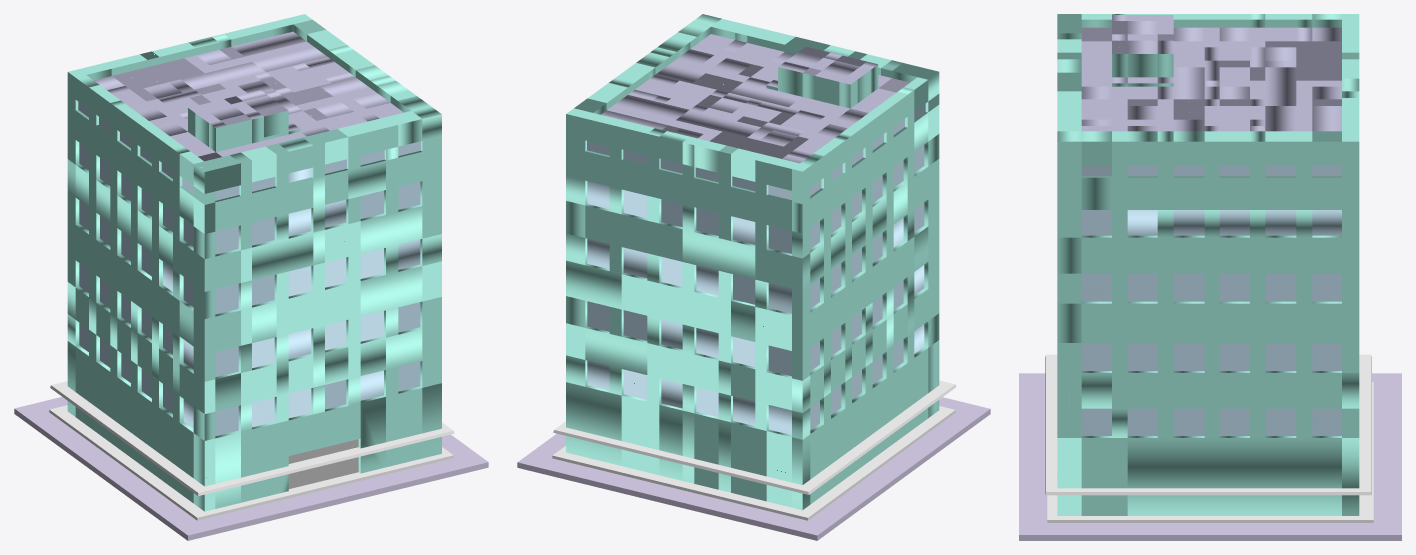
The model's file is building7.glb.
The picture shows the model from 3 angles, left to right: view 1: azimuth 30°, elevation 25°; view 2: azimuth 150°, elevation 25°; view 3: azimuth 270°, elevation 25°; orthographic projection. The views are drawn at different scales.
Visible parts, largest first — view 1: Cube_1_109; view 2: Cube_1_109; view 3: Cube_1_109.
Part boxes in pixels (box(x1,y1,x2,y2)): Cube_1_109: box(14, 14, 488, 540); Cube_1_109: box(517, 14, 990, 540); Cube_1_109: box(1019, 14, 1401, 540).
Bounding box in the file's own units: 3.5 × 4.1 × 3.5.
